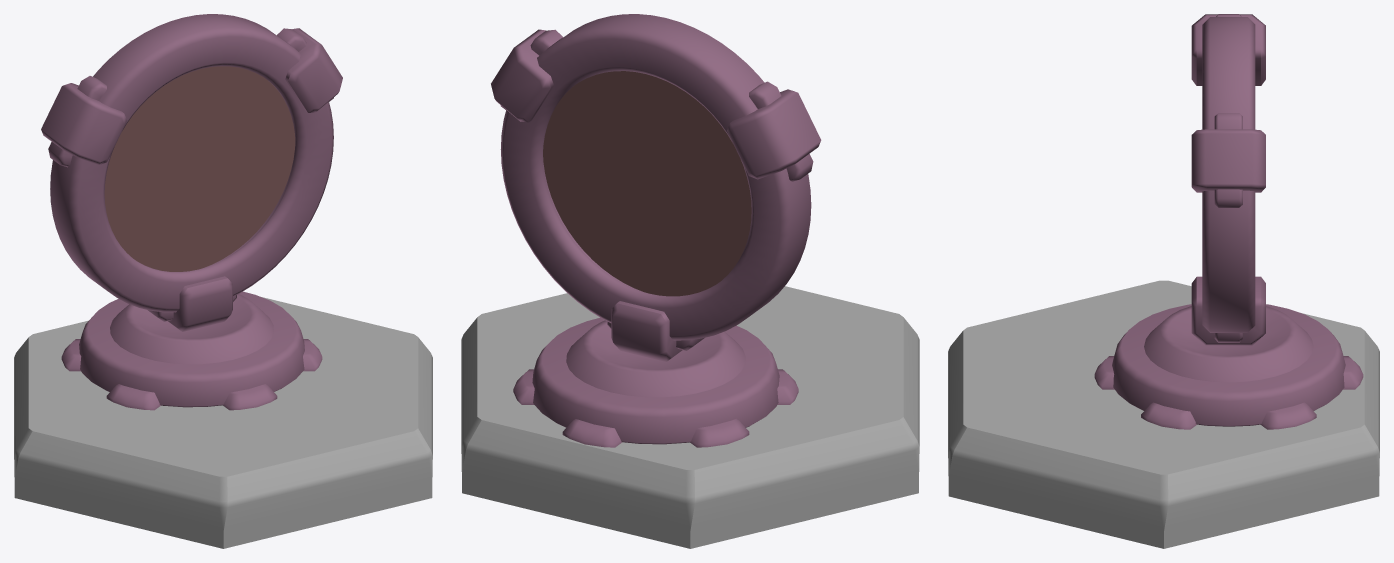
File: portal3.fbx
3 views of the same model, side by side, from view 1: azimuth 30°, elevation 25°; view 2: azimuth 150°, elevation 25°; view 3: azimuth 270°, elevation 25° (orthographic). The views are drawn at different scales.
Parts seen in each view (by area): view 1: portal; view 2: portal; view 3: portal.
Boxes of the visible parts, bbox=[...] form: portal: bbox=[14, 14, 432, 548]; portal: bbox=[461, 14, 919, 548]; portal: bbox=[948, 14, 1379, 548].
Size of the model in its own units: 7.19 by 6.57 by 6.24.
